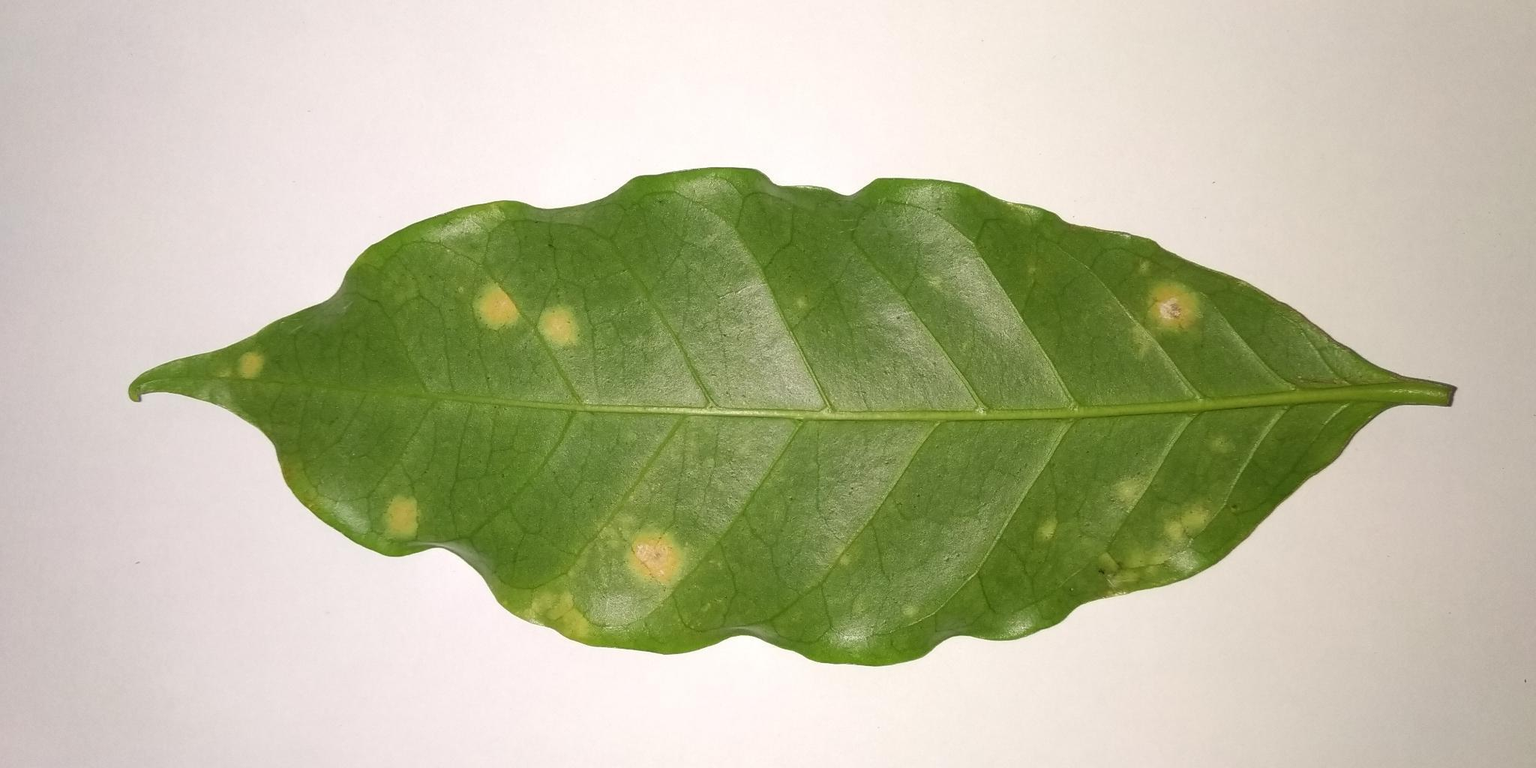Rust: (611, 507, 702, 603)
